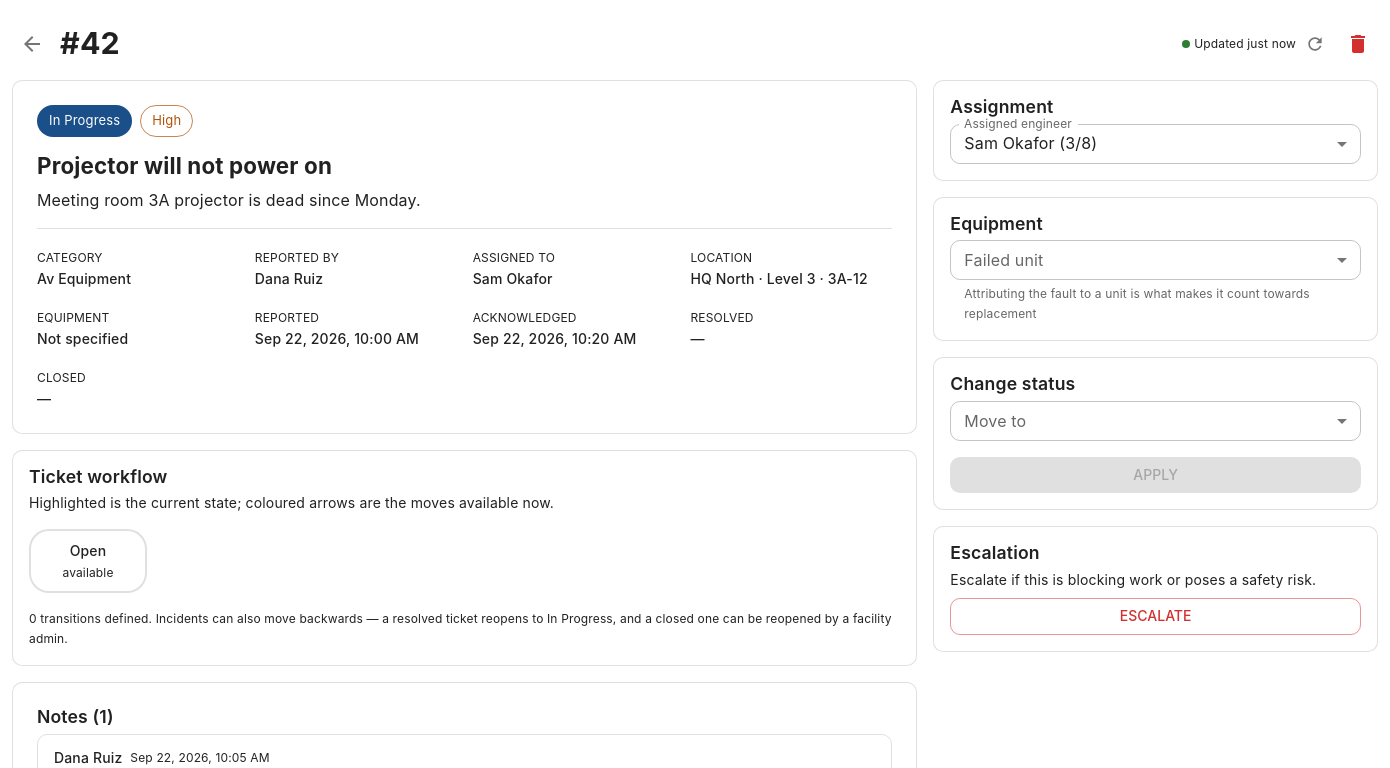
Scenario: driving the workflow › surfaces a rejected transition
Expected: the heading "Change status" is shown, [950,373,1075,394]
Click the dropdown next to "Move to" at [1156, 421], box [950,401,1361,441]
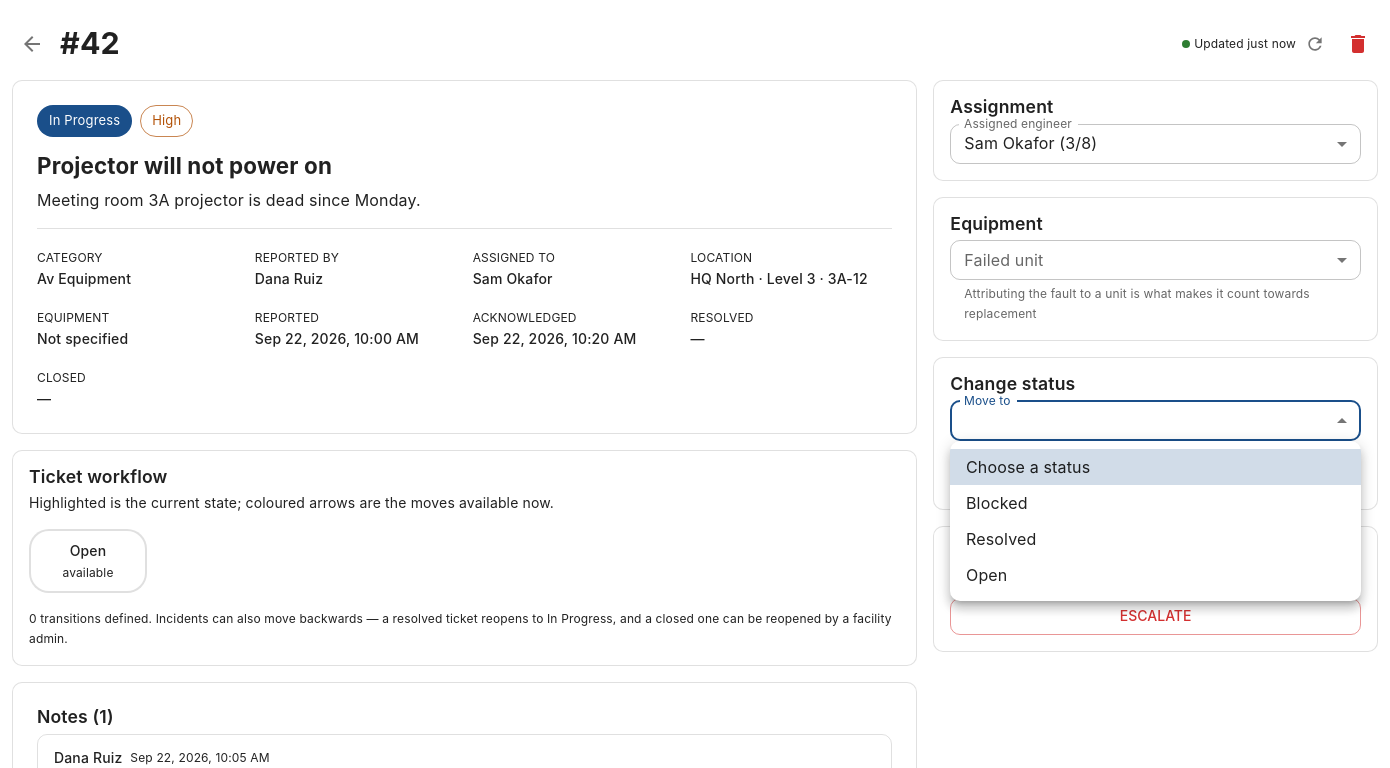
Click the option "Open" at [987, 575], box [966,565,1007,585]
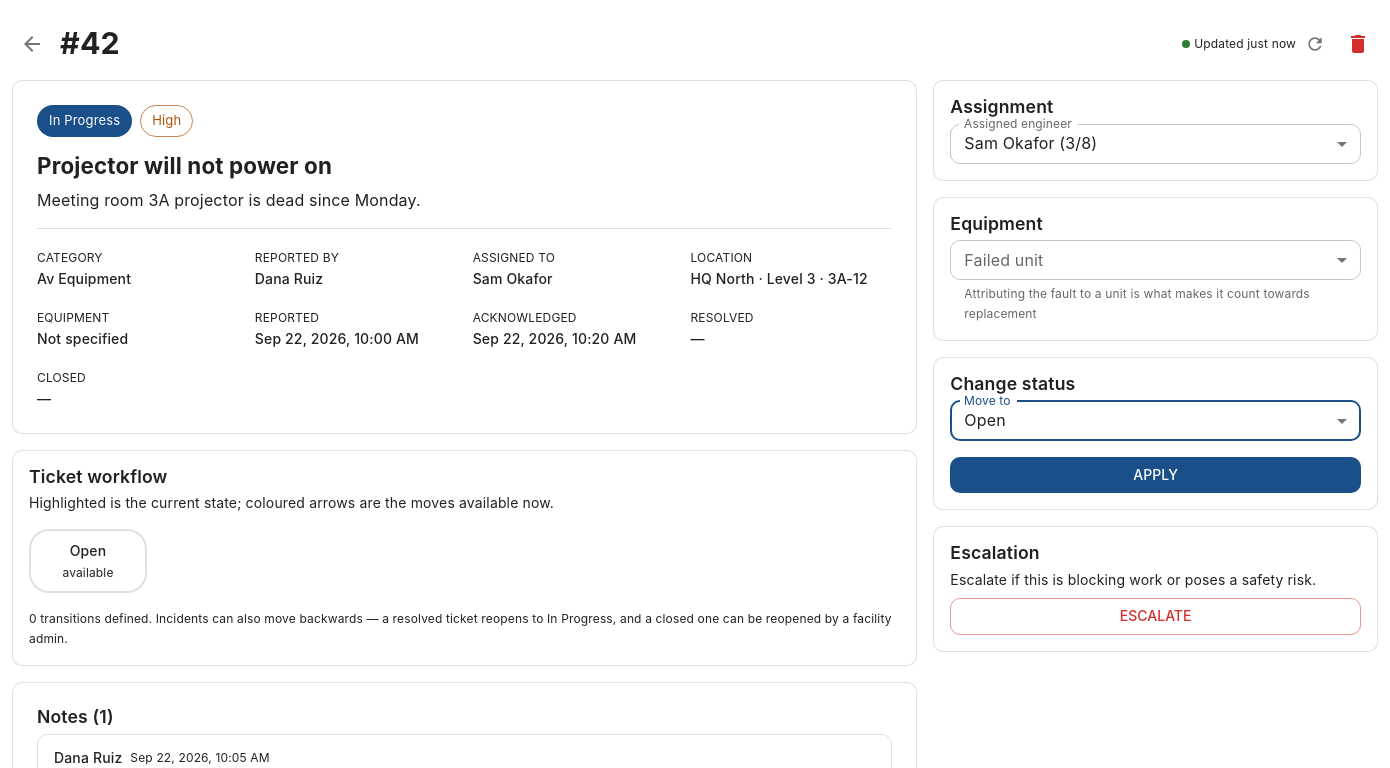
Click the button "Apply" at [1156, 475], box [950,457,1361,493]
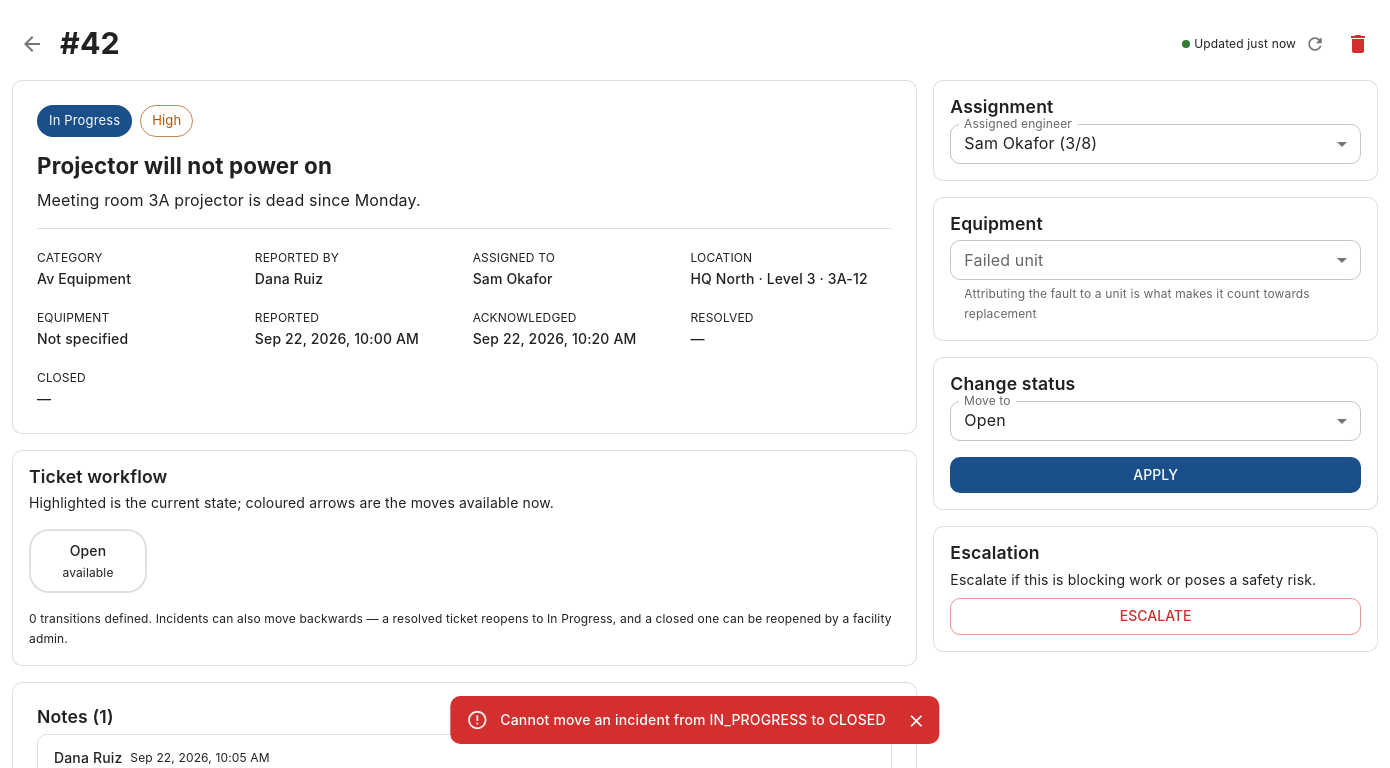
Expected: the text "Cannot move an incident from IN_PROGRESS to CLOSED" is shown, [500,711,886,728]
